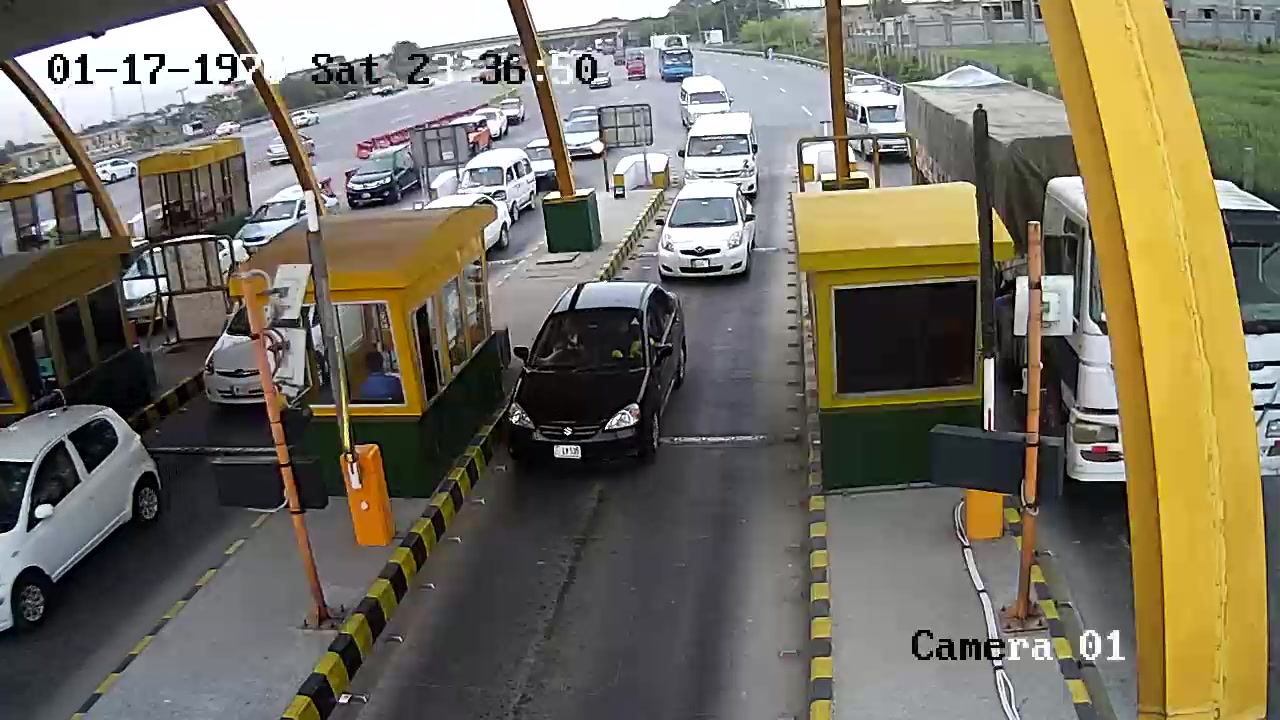F1: (504, 282, 693, 497)
